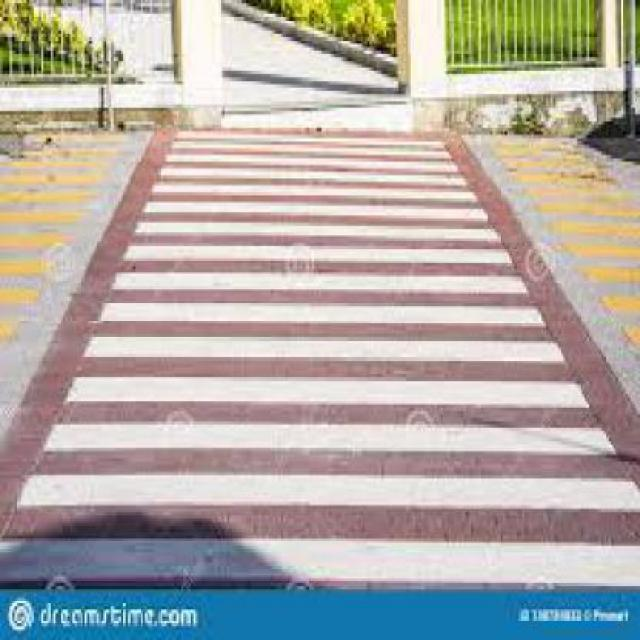crosswalk: (45, 115, 639, 597)
